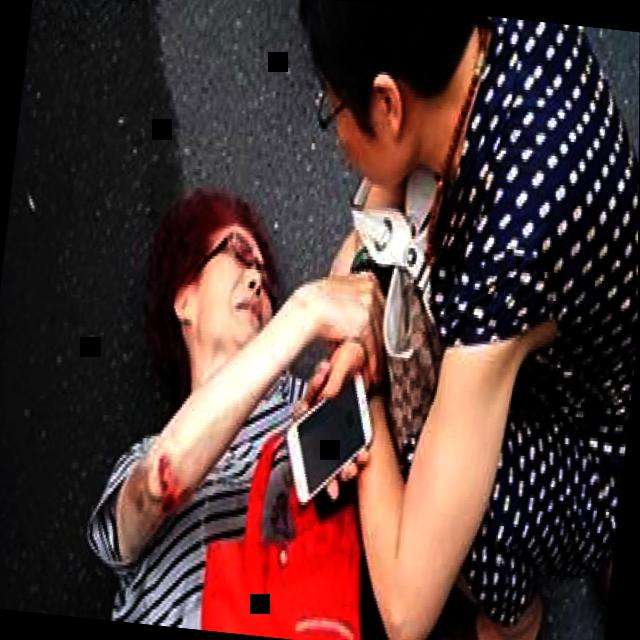Fall-Detected: (70, 163, 620, 640)
